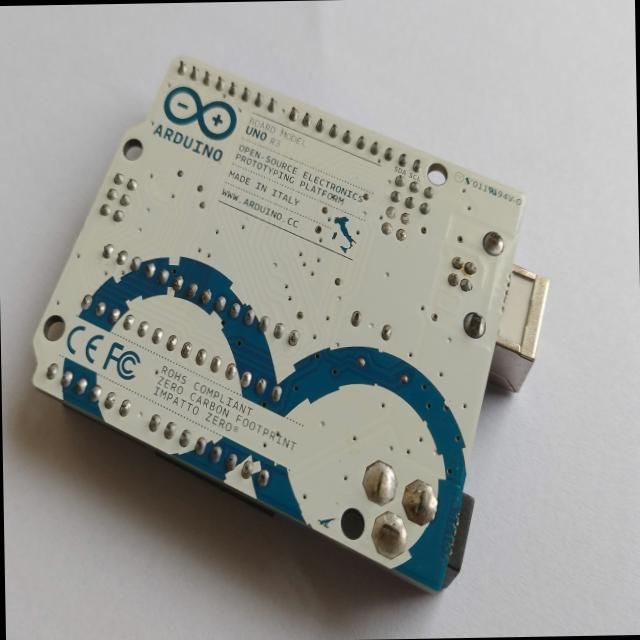arduino: (19, 38, 558, 618)
